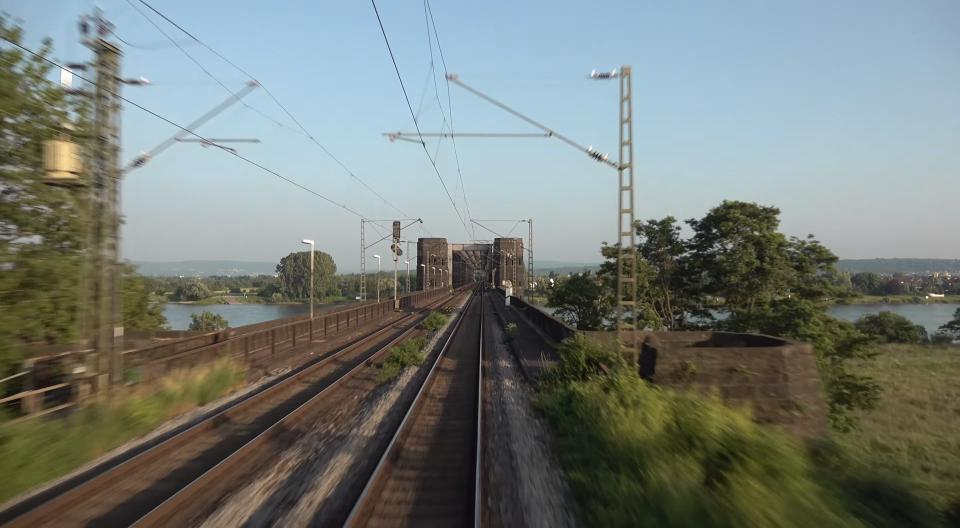Plant: (537, 337, 864, 528), (0, 361, 246, 503), (378, 338, 427, 383), (424, 311, 449, 331), (506, 323, 517, 340)
